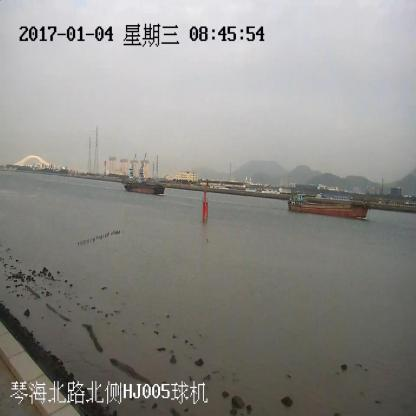Bulk Carrier: (288, 193, 368, 217), (124, 179, 164, 194)
